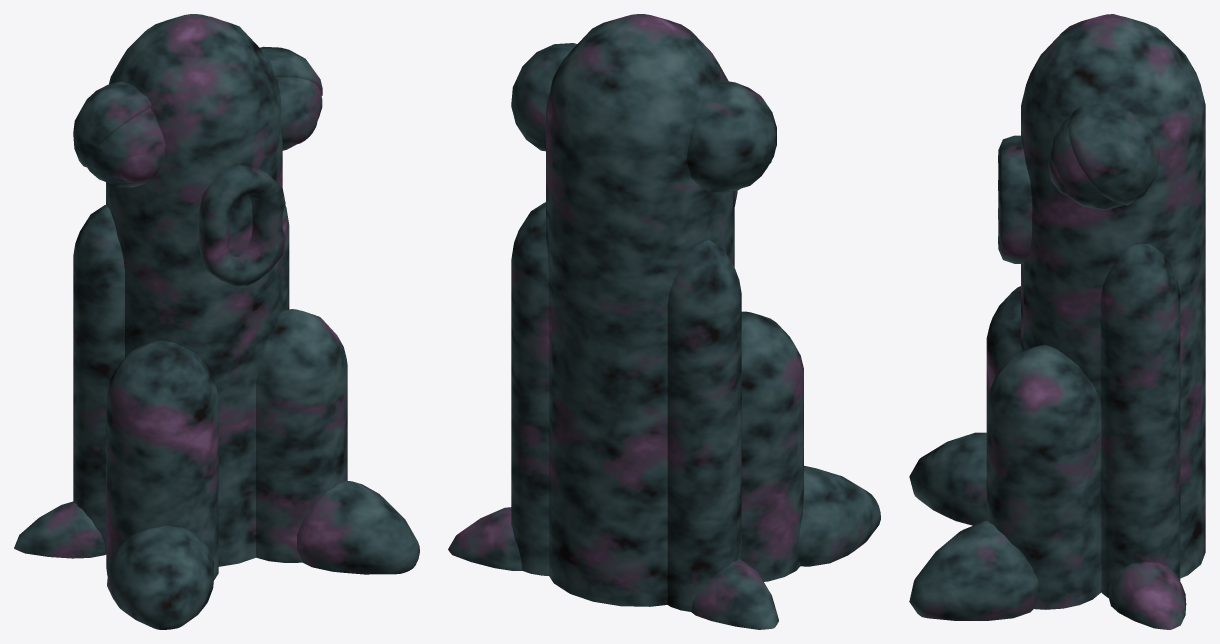
File: CA_067_068_totem_statue.glb
The picture shows the model from 3 angles, left to right: view 1: azimuth 30°, elevation 25°; view 2: azimuth 150°, elevation 25°; view 3: azimuth 270°, elevation 25°; orthographic projection. The views are drawn at different scales.
Visible parts, largest first — view 1: totem_statue; view 2: totem_statue; view 3: totem_statue.
Boxes of the visible parts, box(x1,y1,x2,y2) form: totem_statue: box(14, 14, 419, 629); totem_statue: box(448, 14, 880, 629); totem_statue: box(909, 14, 1205, 629).
Bounding box in the file's own units: 1.33 × 2.14 × 1.08.
Materials: 1 (1 with a texture image).
